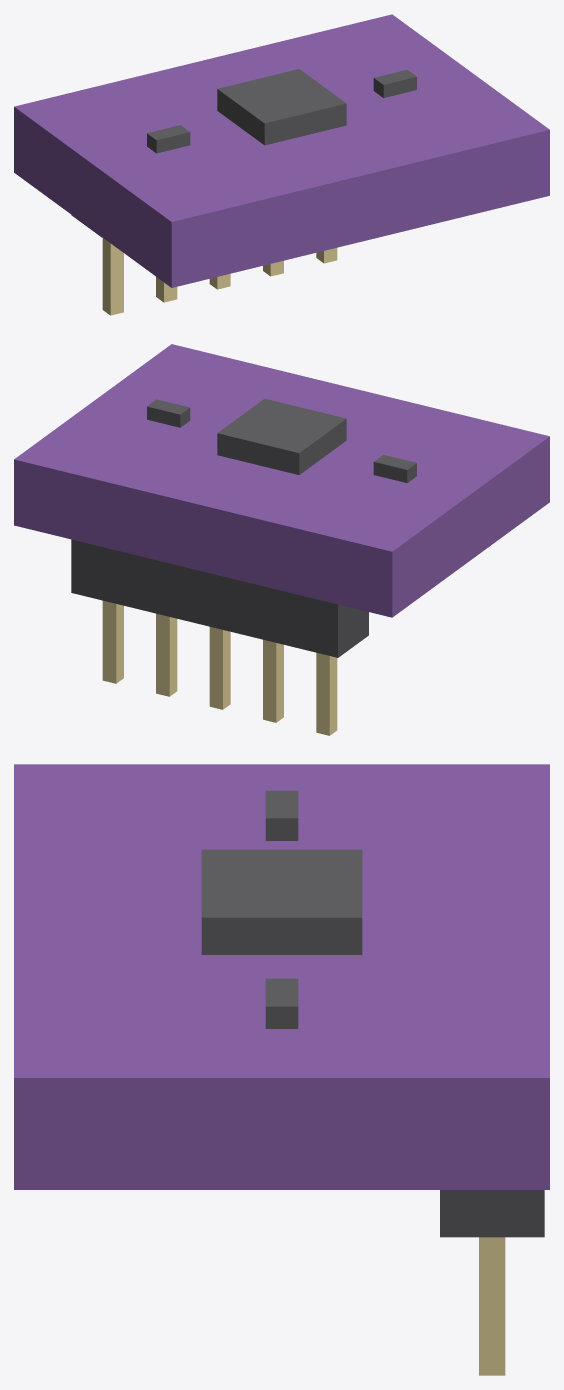
File: sht31.glb
3 views of the same model, one above another, from view 1: azimuth 30°, elevation 25°; view 2: azimuth 150°, elevation 25°; view 3: azimuth 270°, elevation 25° (orthographic). The views are drawn at different scales.
Parts seen in each view (by area): view 1: sht31-pcb, sht31-ic, sht31-pins; view 2: sht31-pcb, sht31-plastic, sht31-pins, sht31-ic; view 3: sht31-pcb, sht31-ic, sht31-plastic, sht31-pins.
Part boxes in pixels (<box>): sht31-pcb: <box>14,14,549,287</box>; sht31-ic: <box>147,69,416,153</box>; sht31-pins: <box>102,238,337,315</box>; sht31-pcb: <box>14,344,549,617</box>; sht31-plastic: <box>71,539,368,657</box>; sht31-pins: <box>102,600,337,735</box>; sht31-ic: <box>147,398,416,483</box>; sht31-pcb: <box>14,764,549,1189</box>; sht31-ic: <box>201,790,362,1028</box>; sht31-plastic: <box>440,1190,544,1237</box>; sht31-pins: <box>479,1237,505,1375</box>.
Bounding box in the file's own units: 0.018 × 0.0107 × 0.013.
